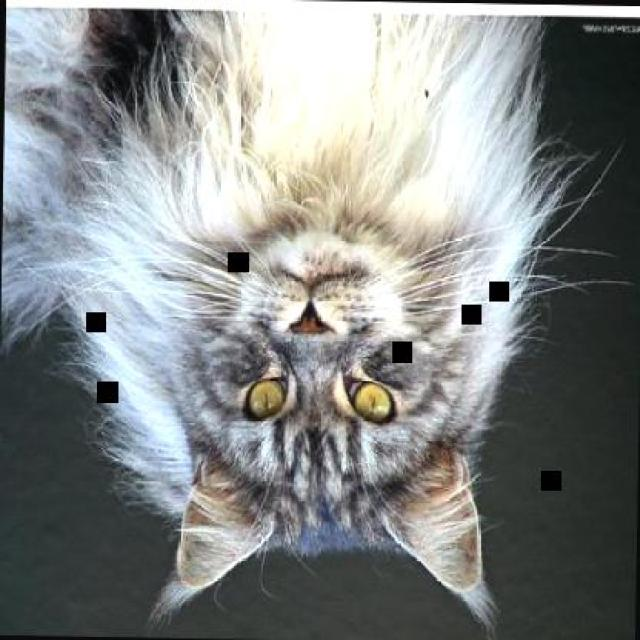cat: (0, 1, 528, 602)
